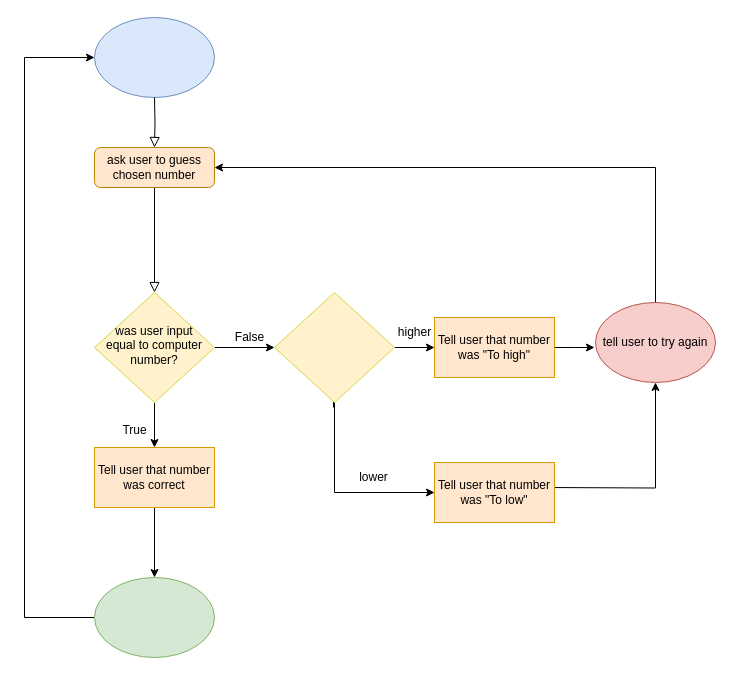
Some shapes in this 733 by 675 pixel diagram are drawn without their labels. The centre of each missing label's shape, as x and y in pixels:
"computer picks random number" belongs at pixel 154 57.
"is higher or lower?" belongs at pixel 334 347.
"restart game" belongs at pixel 154 617.
